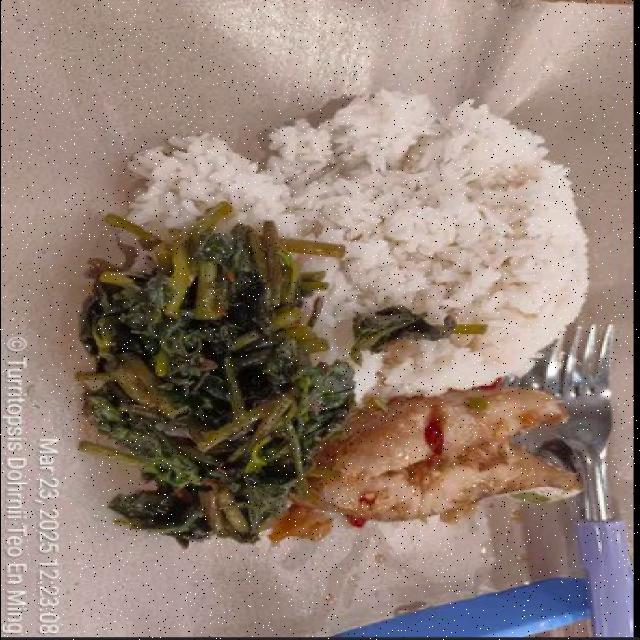Fish: (272, 390, 580, 538)
Green veg: (82, 204, 353, 545), (353, 306, 480, 355)
Rice: (128, 90, 586, 397)
